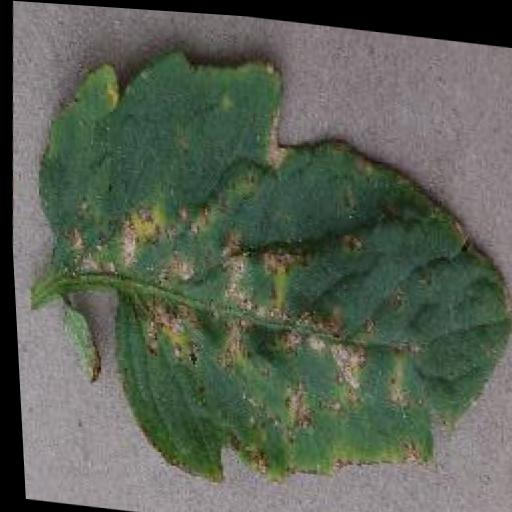Bacterial Spot: (11, 24, 512, 512)
